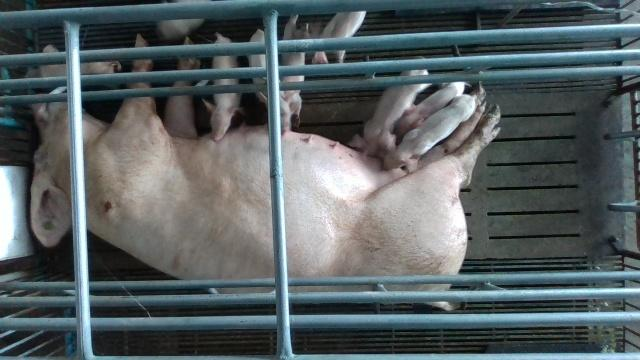piglet: (380, 94, 478, 173), (348, 69, 430, 160), (248, 29, 294, 131), (394, 82, 470, 143), (202, 32, 244, 142), (278, 14, 310, 127), (25, 45, 122, 79), (309, 12, 367, 64)
sow-sleep-lactate: (29, 33, 502, 312)
